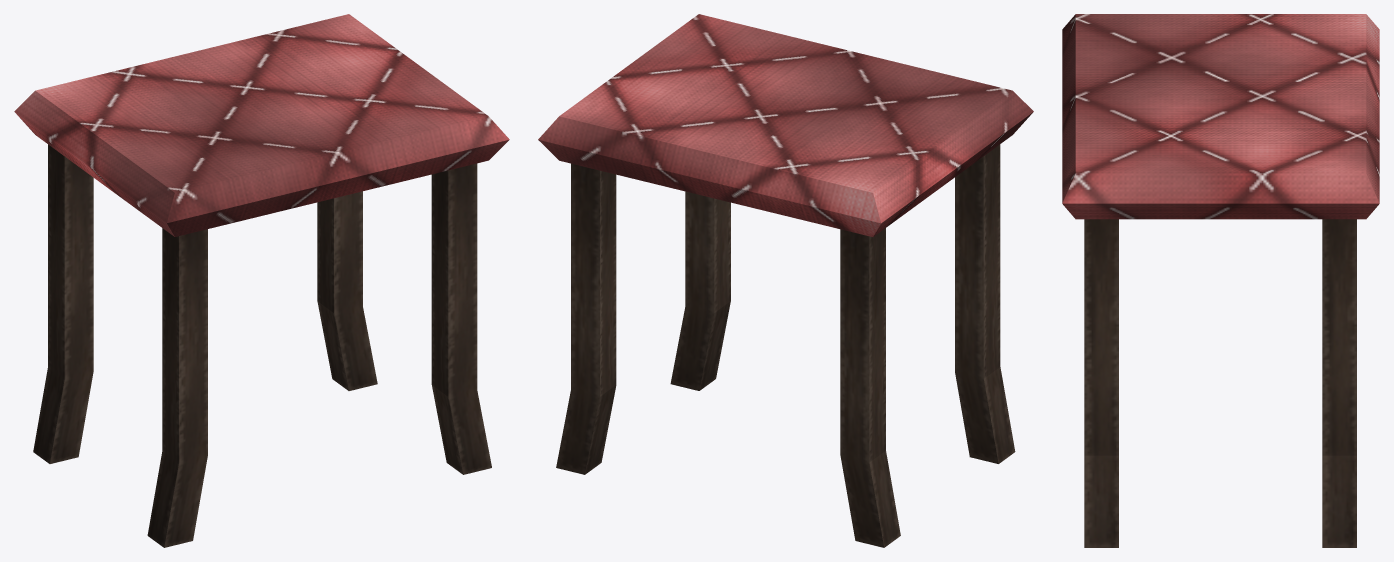
The model's file is Mirror.Desk.Stool.fbx.
3 renders of one model, left to right at view 1: azimuth 30°, elevation 25°; view 2: azimuth 150°, elevation 25°; view 3: azimuth 270°, elevation 25°, orthographic. The views are drawn at different scales.
Parts seen in each view (by area): view 1: Mirror.Desk.Stool; view 2: Mirror.Desk.Stool; view 3: Mirror.Desk.Stool.
Boxes of the visible parts, box(x1,y1,x2,y2) form: Mirror.Desk.Stool: box(14, 14, 509, 547); Mirror.Desk.Stool: box(538, 14, 1033, 547); Mirror.Desk.Stool: box(1062, 14, 1379, 547).
Size of the model in its own units: 46.08 by 45.77 by 35.52.
